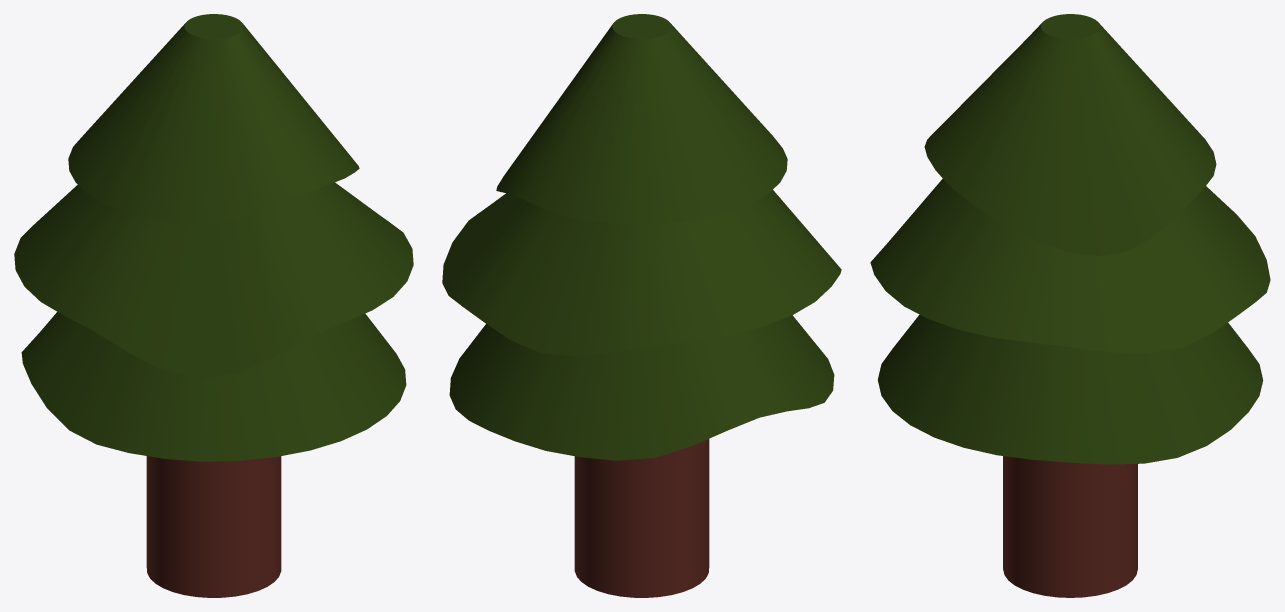
The model's file is tree.fbx.
3 renders of one model, left to right at view 1: azimuth 30°, elevation 25°; view 2: azimuth 150°, elevation 25°; view 3: azimuth 270°, elevation 25°, orthographic.
Visible parts, largest first — view 1: tree; view 2: tree; view 3: tree.
Part boxes in pixels (box(x1,y1,x2,y2)): tree: box(14, 14, 413, 597); tree: box(442, 14, 841, 597); tree: box(870, 14, 1270, 597).
Size of the model in its own units: 449 by 672 by 449.
